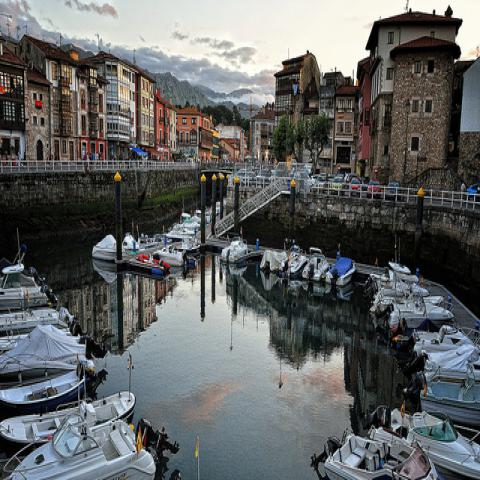car: (280, 170, 315, 191), (330, 176, 344, 196), (366, 179, 380, 198), (466, 181, 479, 195), (360, 177, 370, 191), (350, 177, 360, 190), (388, 184, 396, 200), (344, 173, 358, 182), (318, 172, 329, 181), (310, 174, 319, 183)
